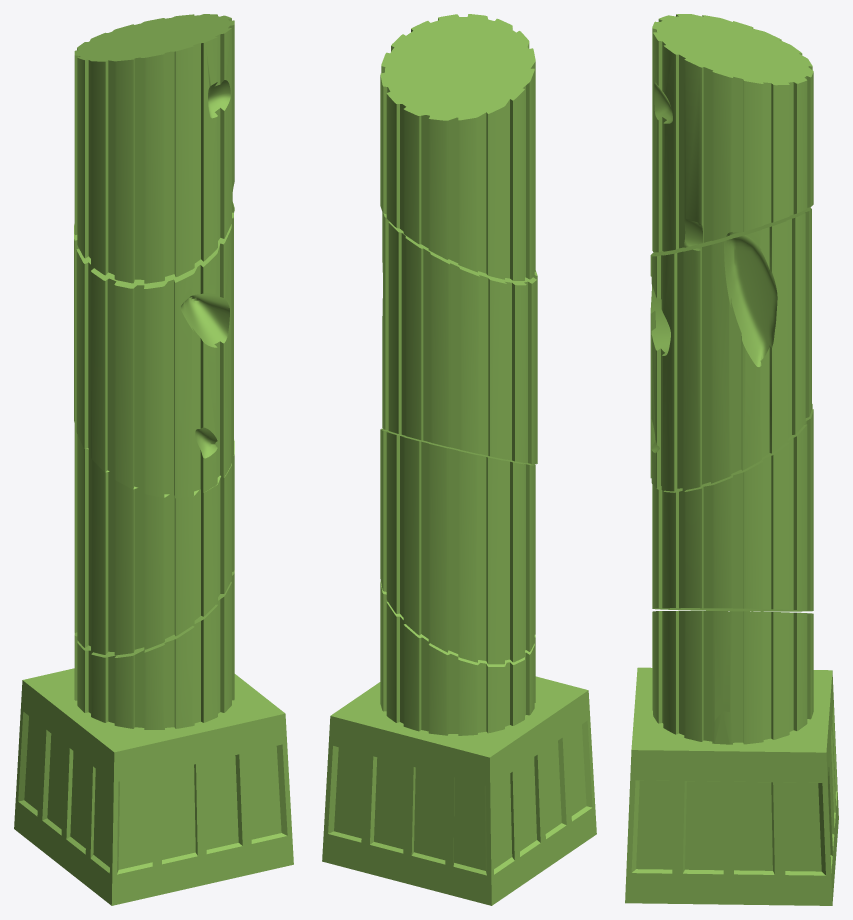
File: ColumnHalf1.obj
3 renders of one model, left to right at view 1: azimuth 30°, elevation 25°; view 2: azimuth 150°, elevation 25°; view 3: azimuth 270°, elevation 25°, orthographic. The views are drawn at different scales.
Parts seen in each view (by area): view 1: ColumnHalf1; view 2: ColumnHalf1; view 3: ColumnHalf1.
Boxes of the visible parts, left/top/right/bottom form: ColumnHalf1: left=14, top=14, right=293, bottom=905; ColumnHalf1: left=322, top=14, right=596, bottom=905; ColumnHalf1: left=625, top=14, right=838, bottom=905.
Size of the model in its own units: 7.4 by 31.81 by 7.4.
